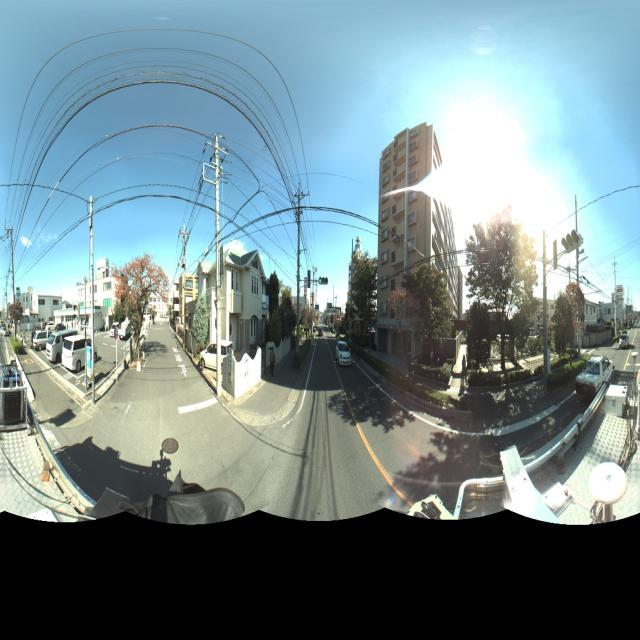b_1: (375, 127, 430, 353), (210, 240, 271, 358), (428, 143, 463, 321), (75, 257, 121, 321), (33, 286, 63, 334), (181, 270, 197, 325)
b_2: (378, 210, 470, 392), (527, 266, 615, 379), (119, 268, 178, 371)
